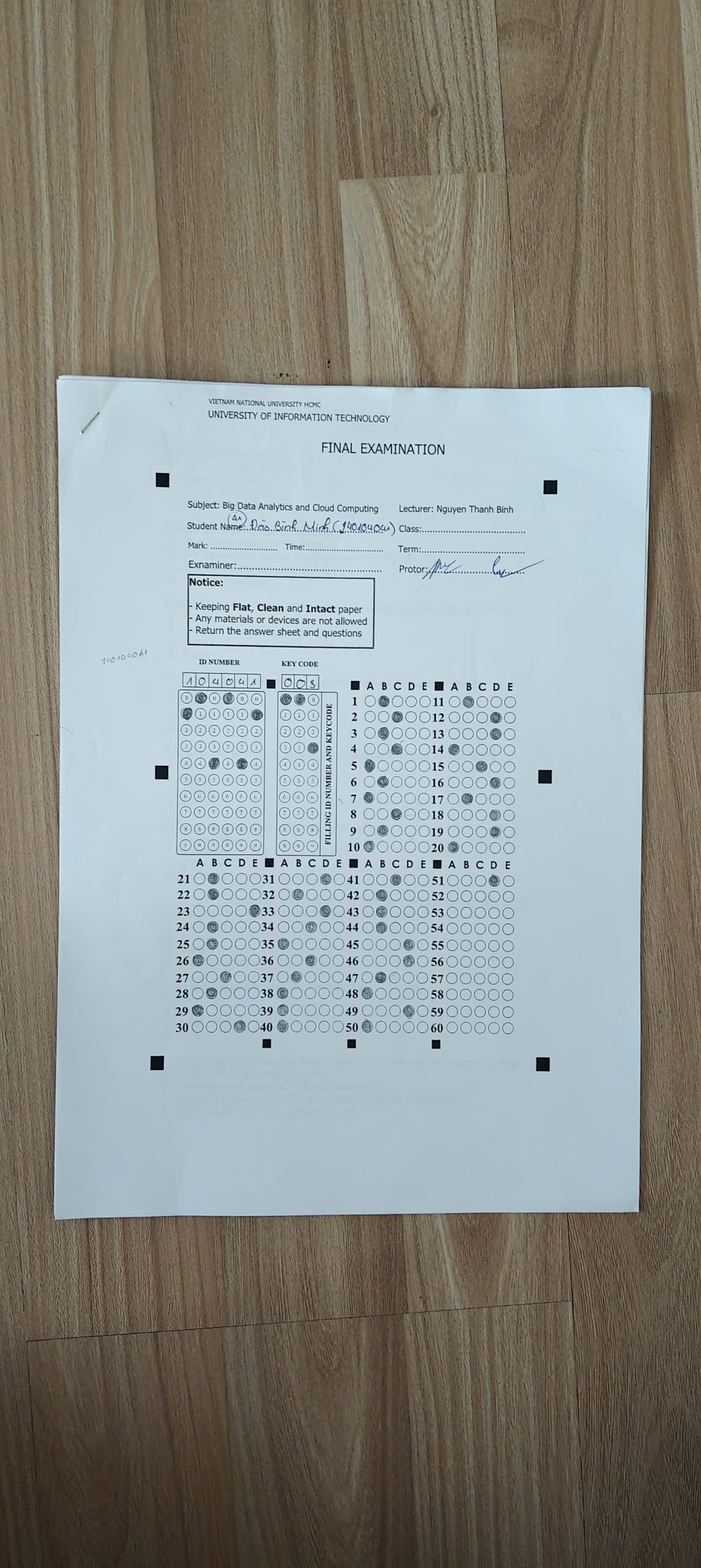info_region: (178, 691, 321, 857)
paper_region: (161, 483, 544, 1065)
q_1_20: (355, 686, 520, 864)
q_21_60: (173, 863, 518, 1044)
